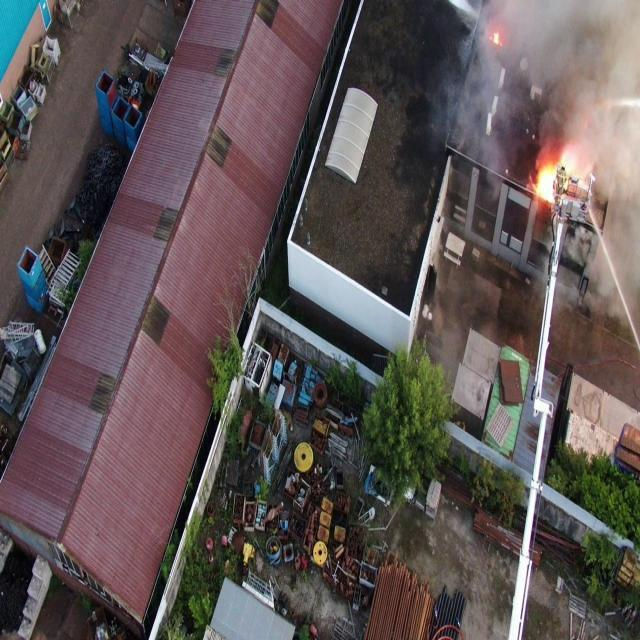Fire: (534, 163, 568, 204), (492, 32, 500, 44)
Smoke: (426, 0, 640, 324)
